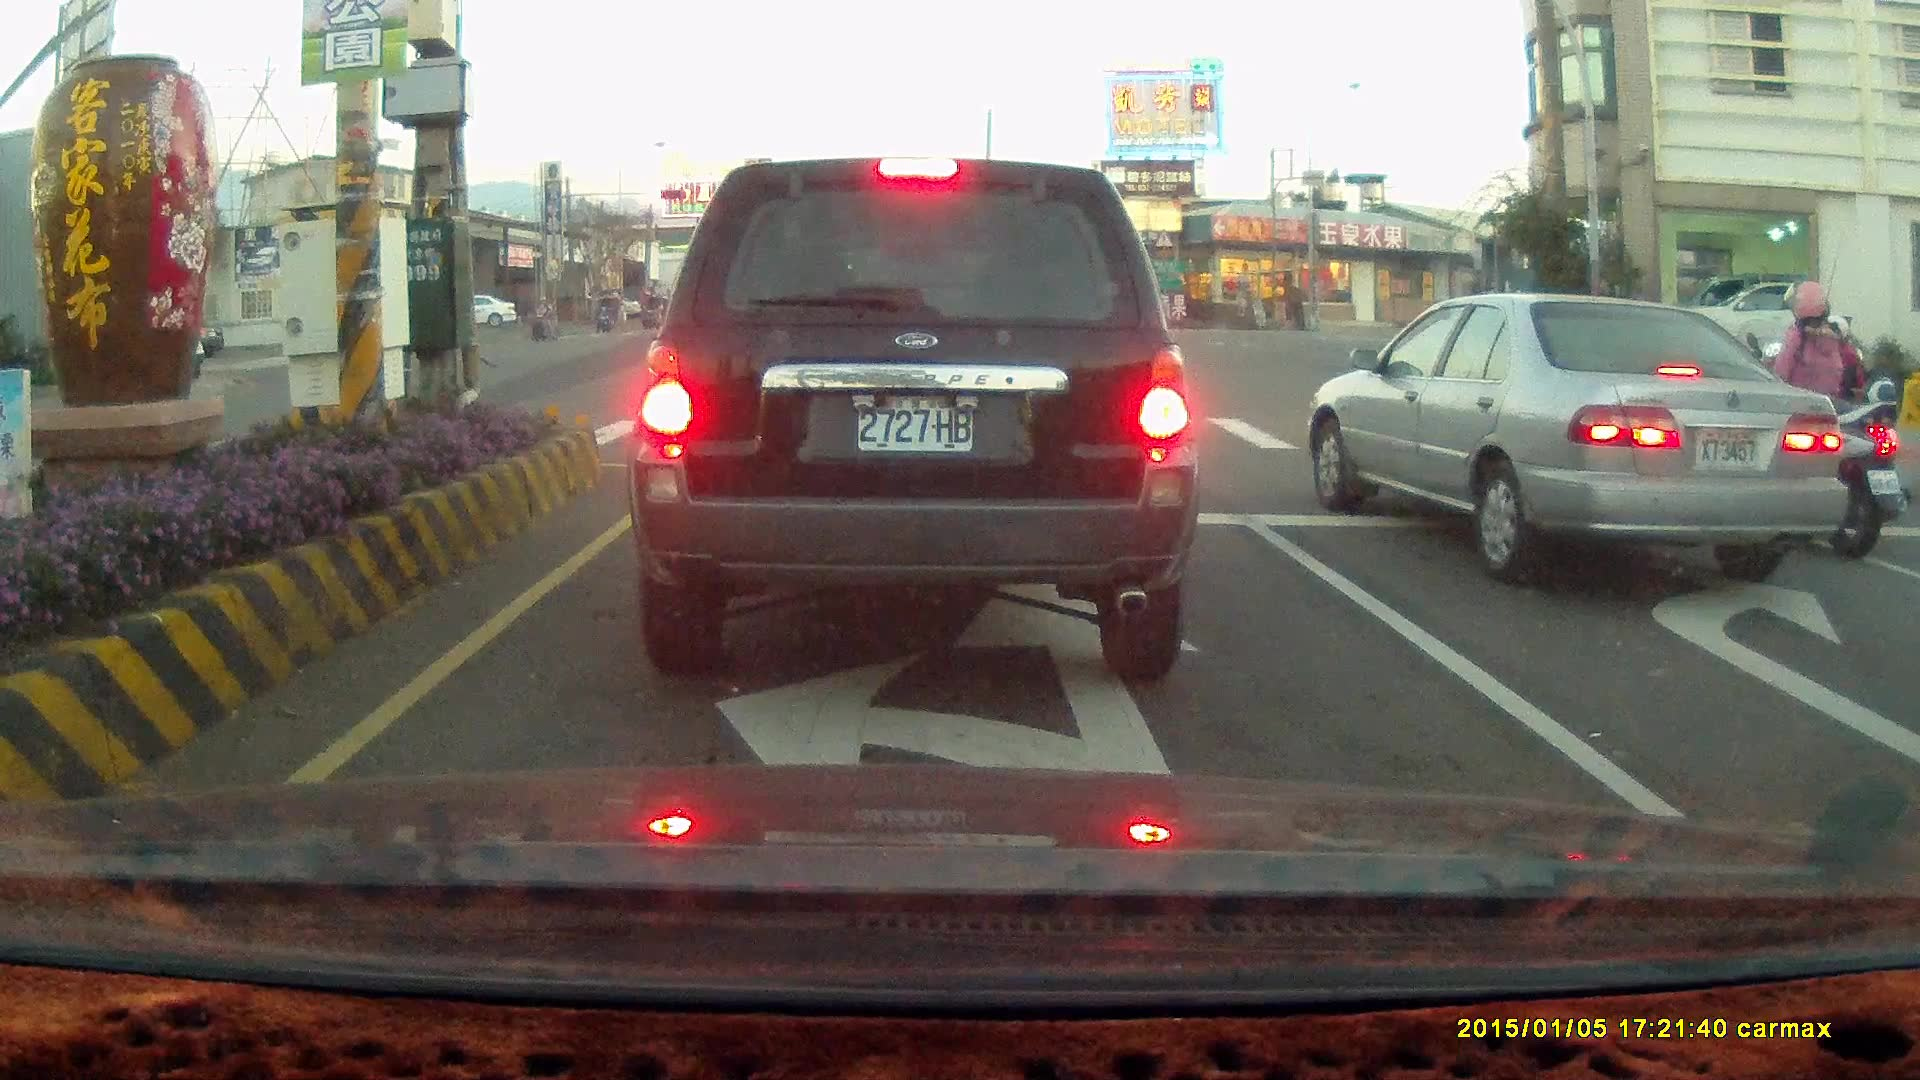rider: (1686, 275, 1916, 563), (528, 290, 562, 338), (593, 292, 614, 333), (643, 290, 664, 327)
vehicle: (624, 155, 1200, 686), (1306, 290, 1851, 586), (1315, 293, 1850, 579), (1650, 274, 1852, 368), (1668, 275, 1823, 373), (1896, 493, 1920, 836)
